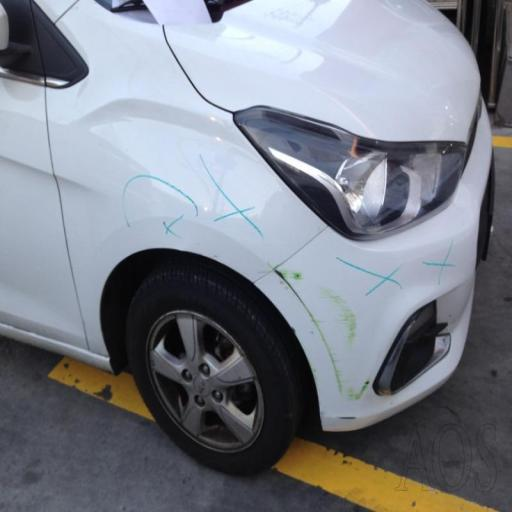scratch: (100, 117, 466, 439)
